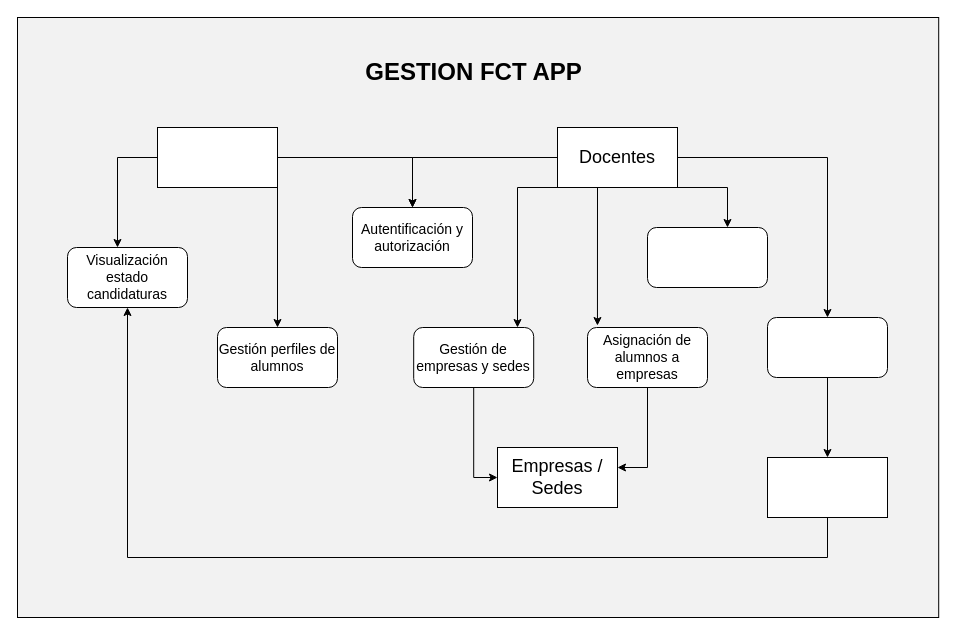
Some shapes in this 957 by 635 pixel diagram are drawn without their labels. The shapes that lost their labels are listed below. From the top down, each one's centre as x and y in pixels, then its label:
At [217,157]: "Alumnos".
At [707,257]: "Gestión de alumnos".
At [827,347]: "Gestión de candidaturas".
At [827,487]: "Candidaturas".
